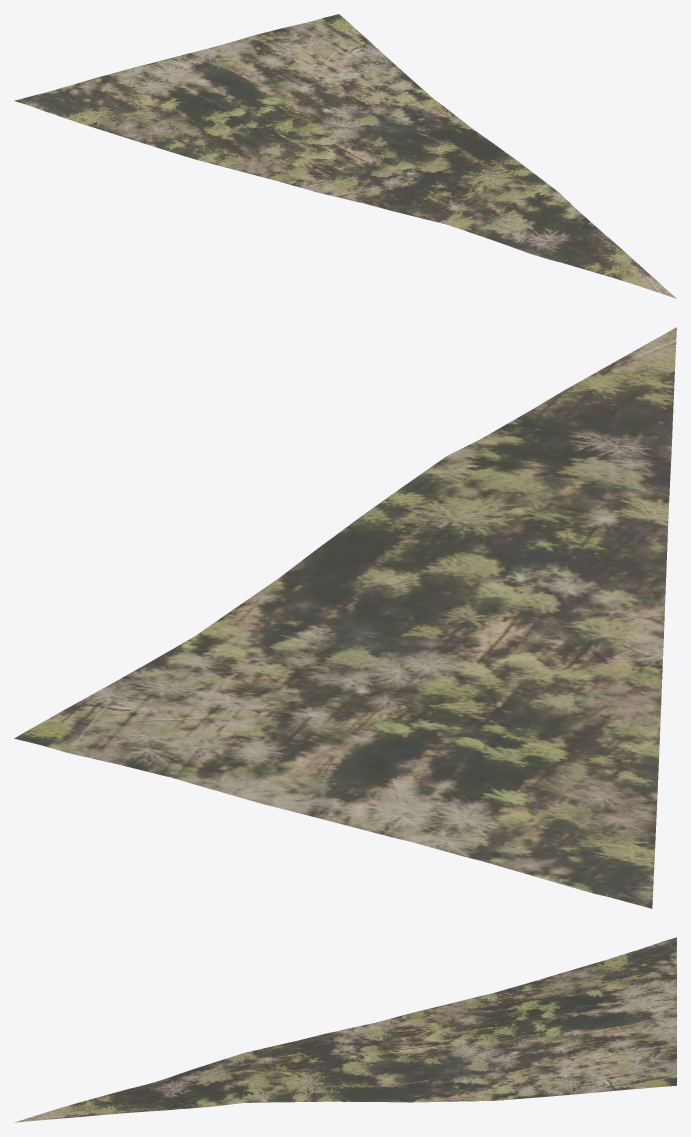
File: CM_Terrain_24491892_6813855.fbx
The picture shows the model from 3 angles, top to bottom: view 1: azimuth 30°, elevation 25°; view 2: azimuth 150°, elevation 25°; view 3: azimuth 270°, elevation 25°; orthographic projection. The views are drawn at different scales.
Visible parts, largest first — view 1: CM_Terrain_24491892_6813855_LOD0; view 2: CM_Terrain_24491892_6813855_LOD0; view 3: CM_Terrain_24491892_6813855_LOD0.
Boxes of the visible parts, bbox=[...] form: CM_Terrain_24491892_6813855_LOD0: bbox=[14, 14, 676, 298]; CM_Terrain_24491892_6813855_LOD0: bbox=[14, 327, 676, 908]; CM_Terrain_24491892_6813855_LOD0: bbox=[15, 937, 676, 1122].
Size of what is drawn, in the model's own units: 66.22 by 7.31 by 119.
